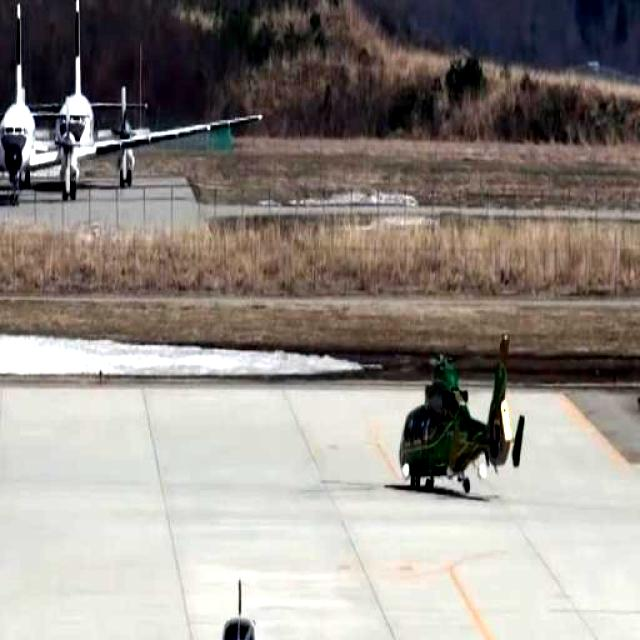0: (45, 0, 158, 244), (0, 0, 50, 241), (198, 566, 286, 640)
drone: (374, 330, 540, 506)
